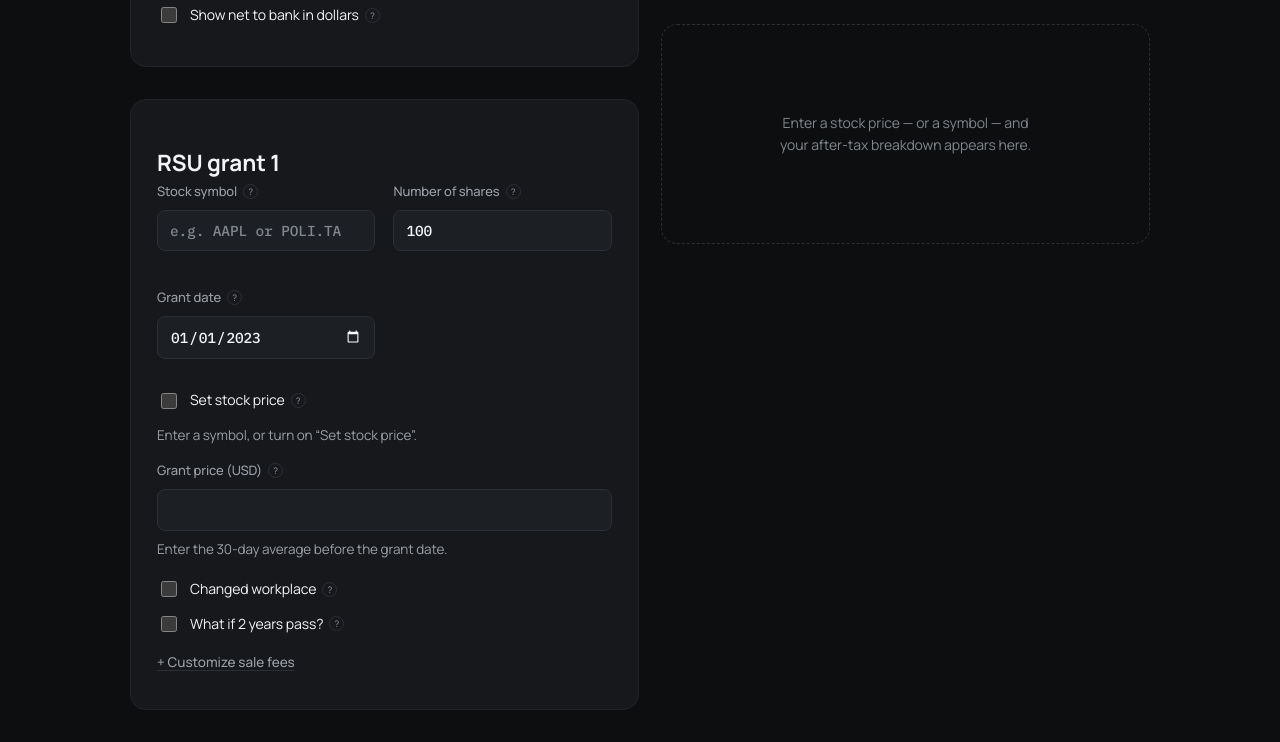
RSU: grant price is never copied from the stock price › withholds the result until a grant price is entered when there is no symbol
The width and height of the screenshot is (1280, 742).
(page scrolled)
Click the checkbox labelled "Set stock price" at (169, 401), box [161,393,177,409]
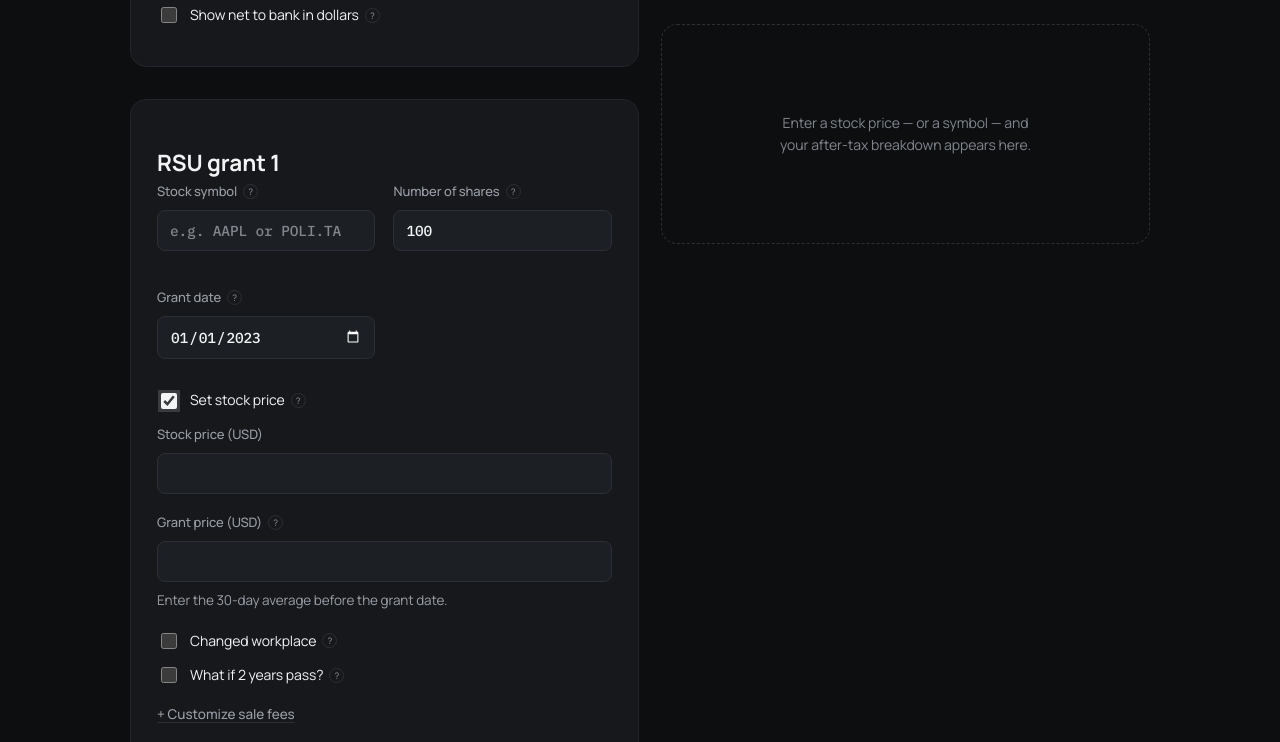
Type "150" into the number field labelled "Stock price (USD)" at (384, 473), box [157,453,612,494]
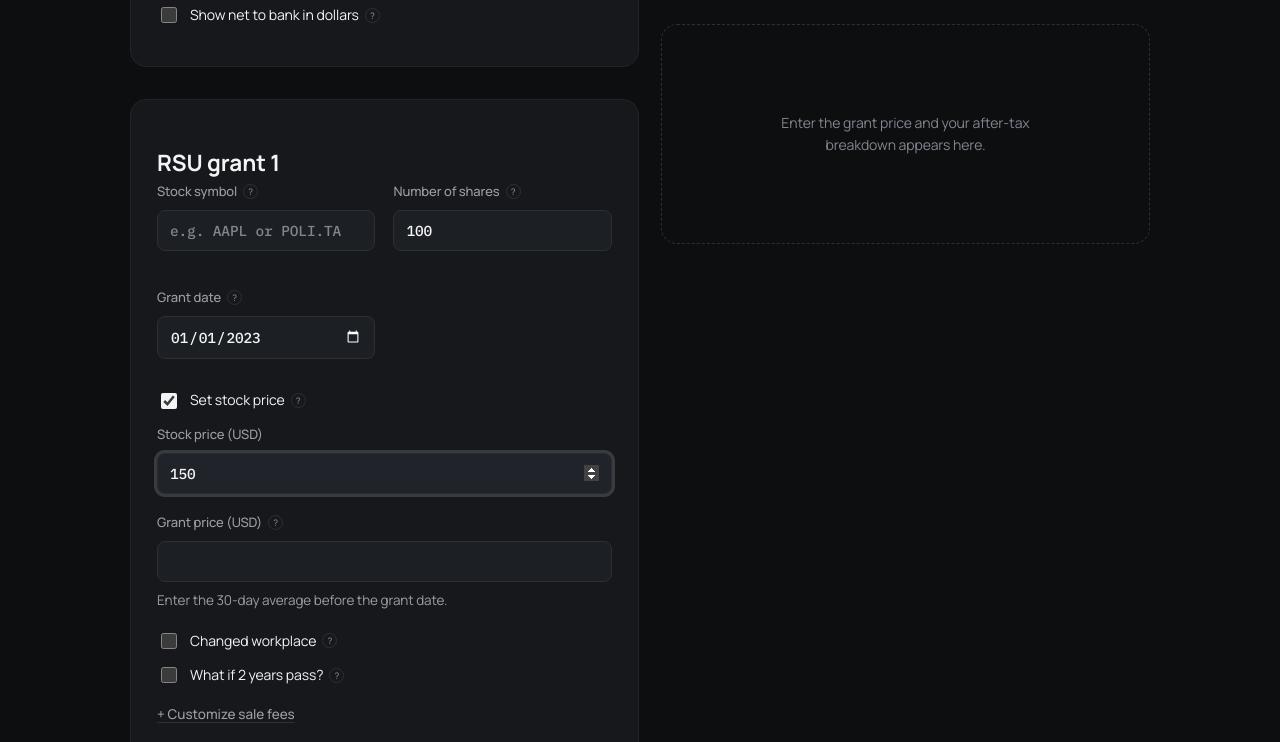
Check: the element named "Results" shows "grant price", box [781,113,1030,154]
Type "100" into the number field labelled "Grant price (USD)" at (384, 562), box [157,541,612,582]
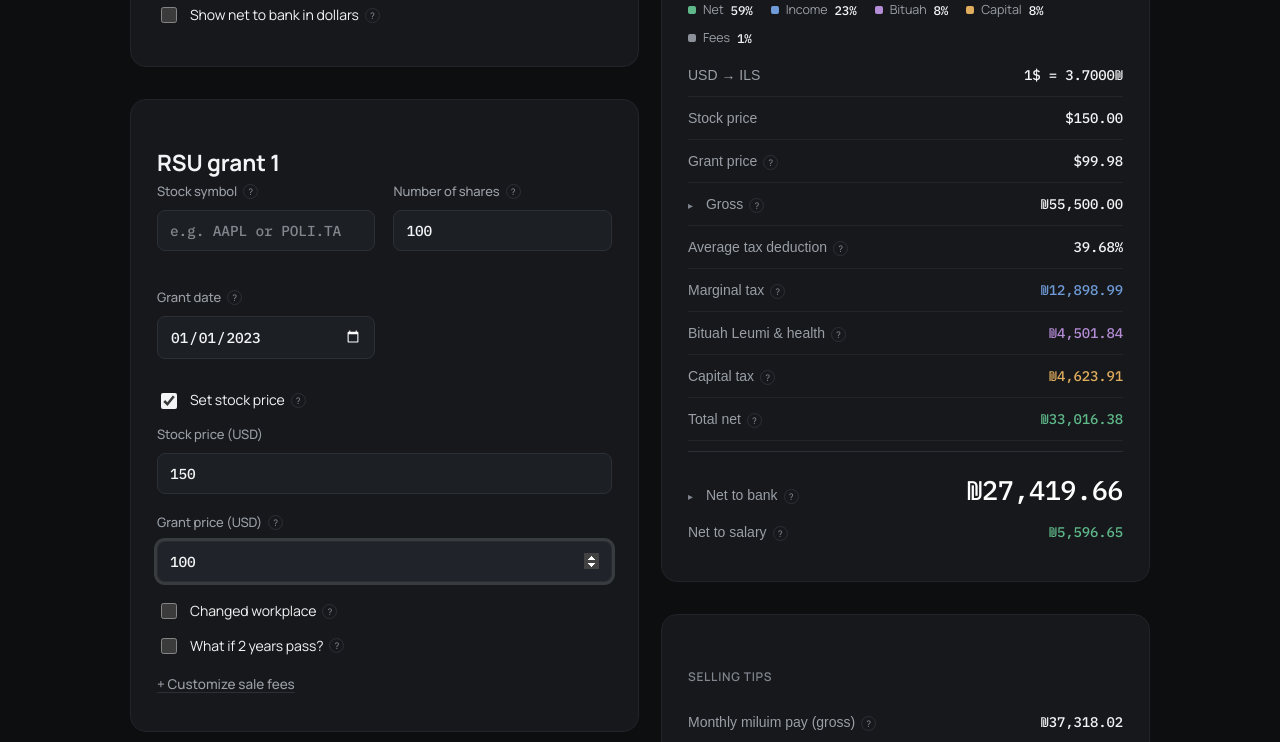
Check: the number field labelled "Grant price (USD)" does not have attribute aria-invalid="true", box [157,541,612,582]
